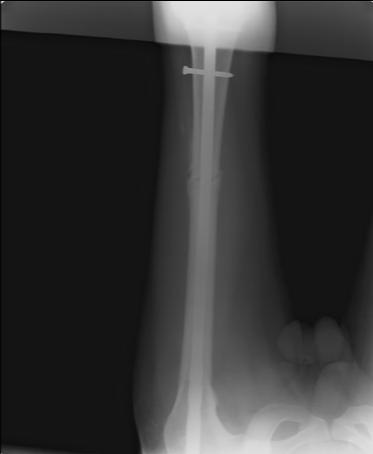fractured: (181, 158, 224, 196)
